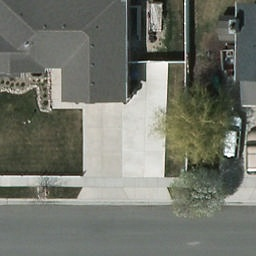car: (216, 116, 243, 162), (246, 129, 256, 176)
